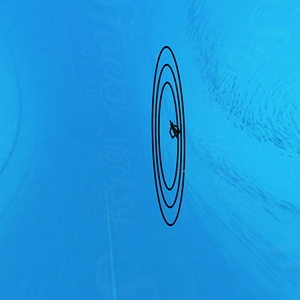circle: (148, 40, 193, 242)
submarine: (170, 119, 180, 144)
